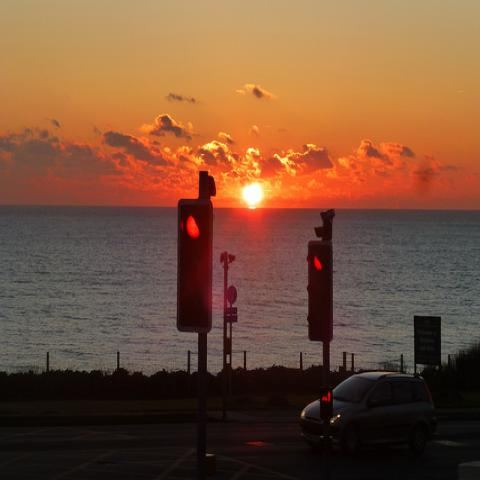car: (300, 368, 439, 456)
